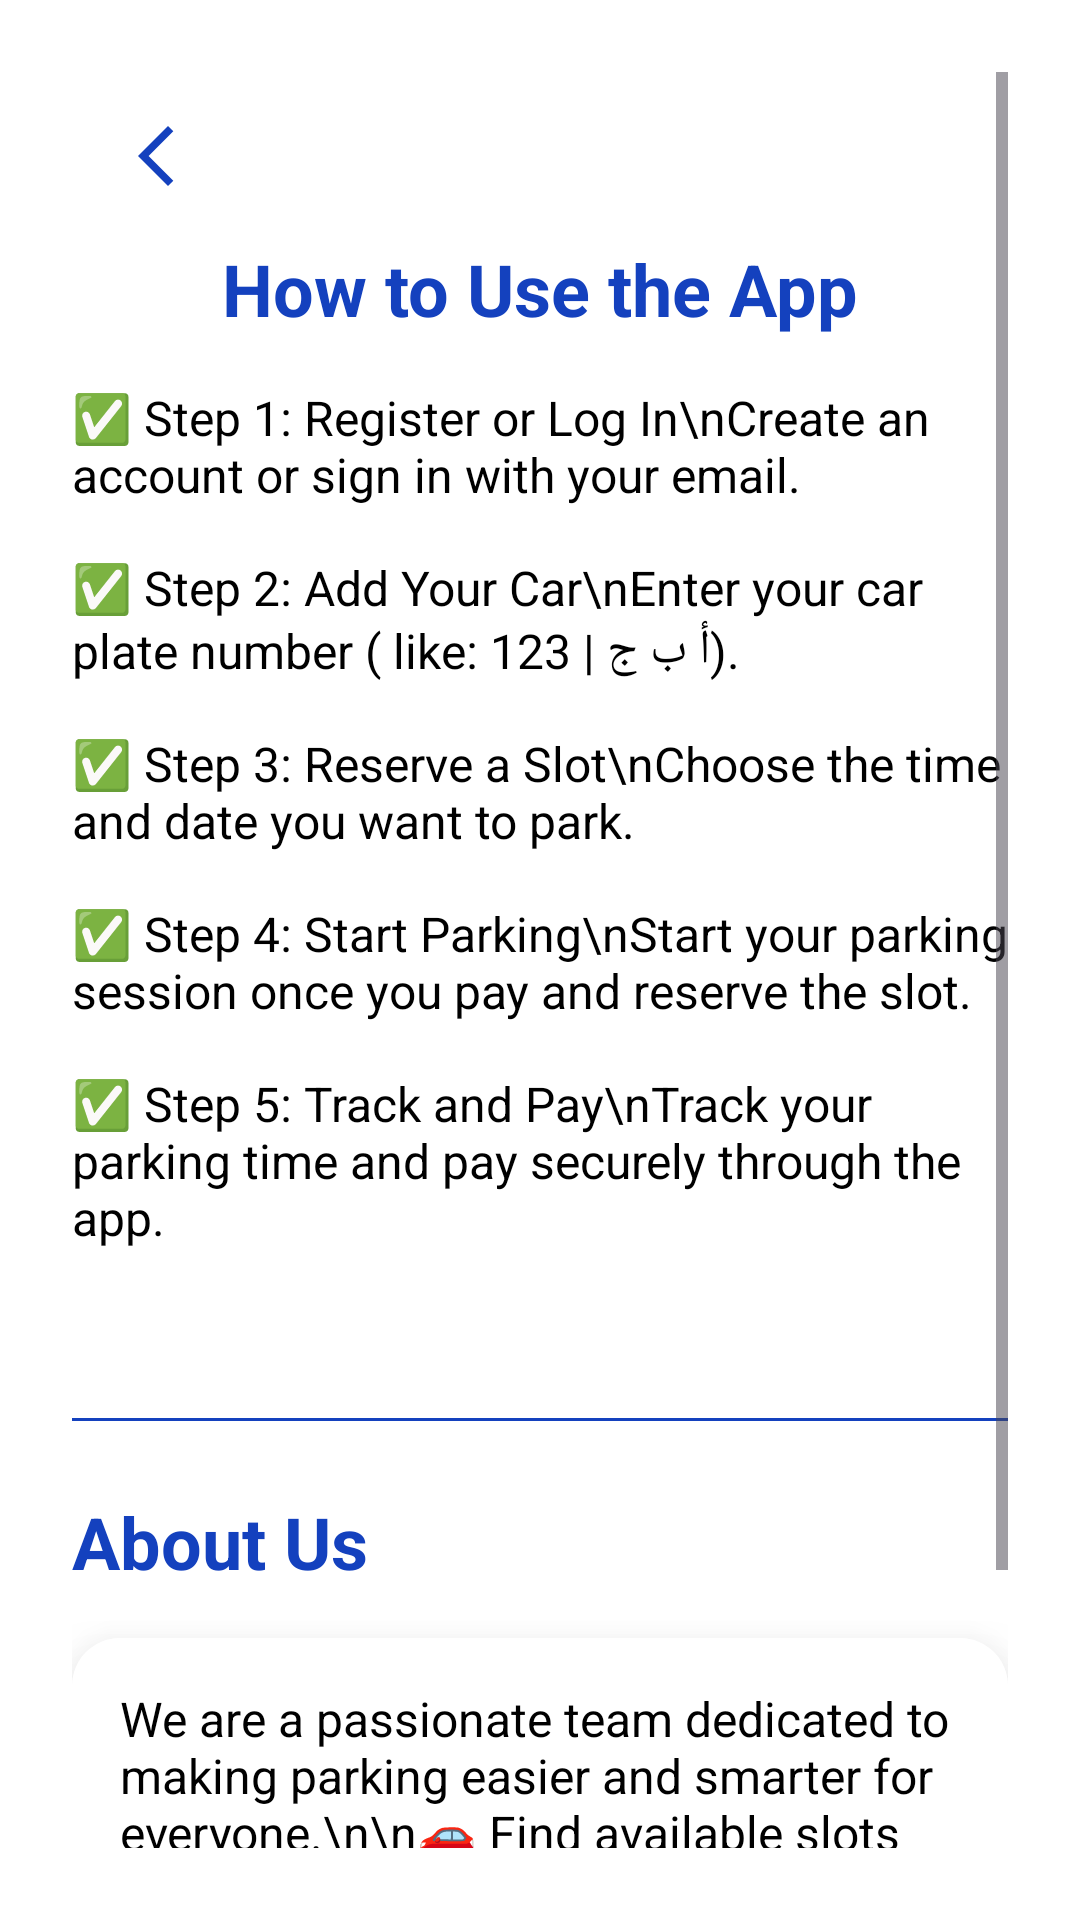

Where icons sit on this 1080×1920 app screen, as (x1, y1, x2, y2):
back: (138, 126, 173, 186)
